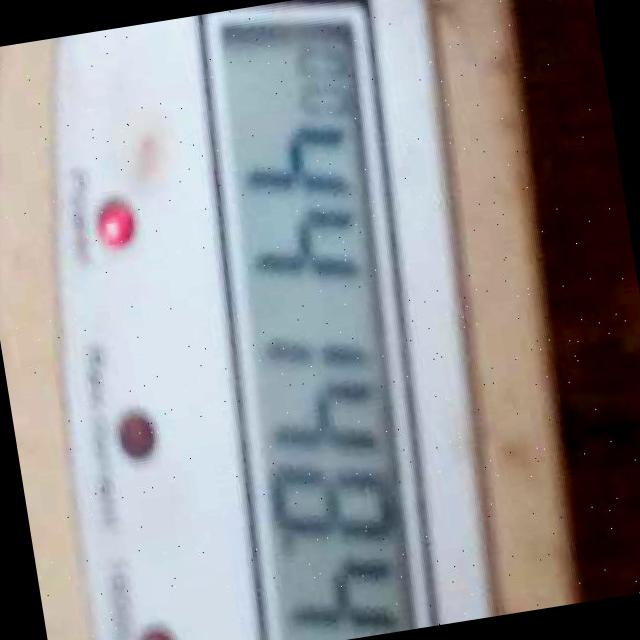LCD: (151, 0, 468, 640)
